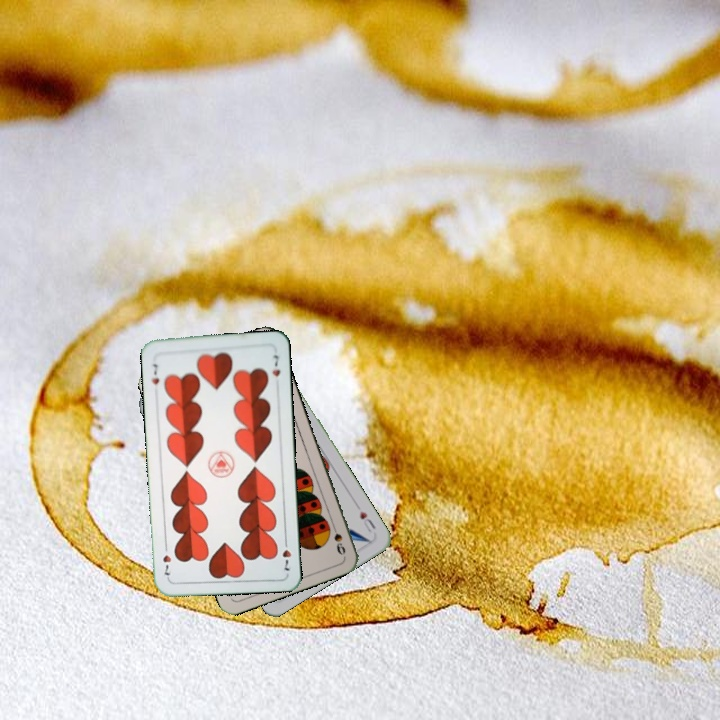H7: (278, 534, 294, 574), (148, 359, 161, 387)
HU: (356, 507, 378, 536)
S9: (328, 518, 348, 558)
